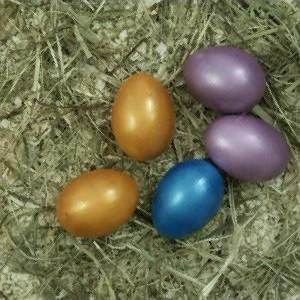egg: (182, 47, 267, 114), (153, 159, 225, 237), (204, 116, 289, 182), (112, 73, 175, 160), (58, 170, 139, 236)
